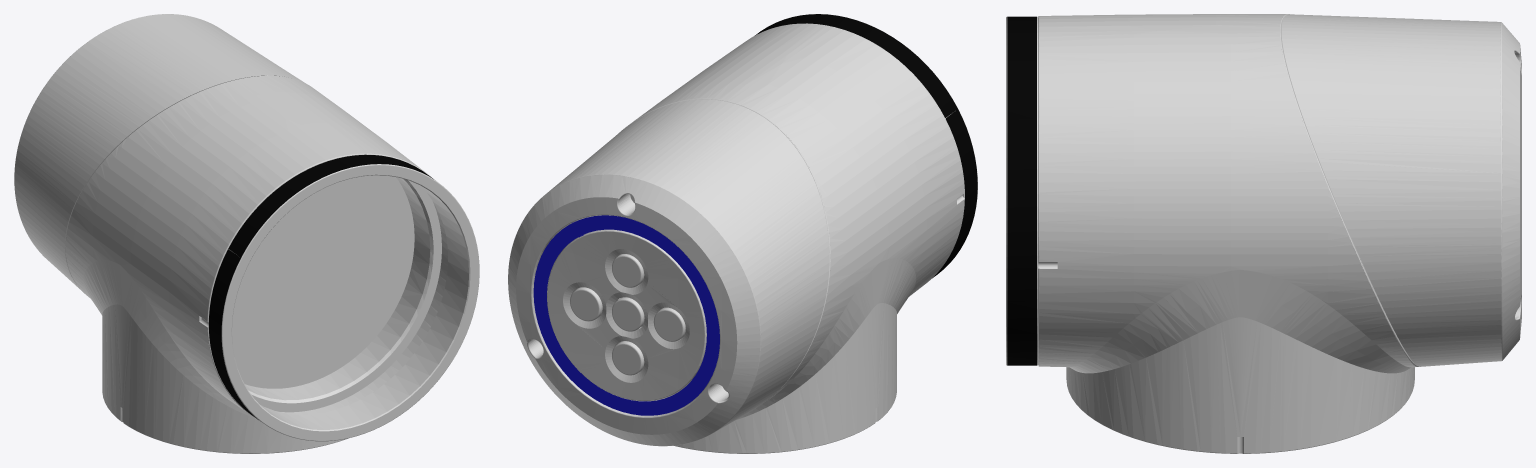
File: symphony10_5_w.dae
The picture shows the model from 3 angles, left to right: view 1: azimuth 30°, elevation 25°; view 2: azimuth 150°, elevation 25°; view 3: azimuth 270°, elevation 25°; orthographic projection. The views are drawn at different scales.
Parts seen in each view (by area): view 1: link5; view 2: link5; view 3: link5.
Boxes of the visible parts, x1,y1,x2,y2 form: link5: [14, 14, 479, 453]; link5: [508, 14, 977, 453]; link5: [1006, 14, 1521, 453].
Bounding box in the file's own units: 0.0917 × 0.1333 × 0.0998.
